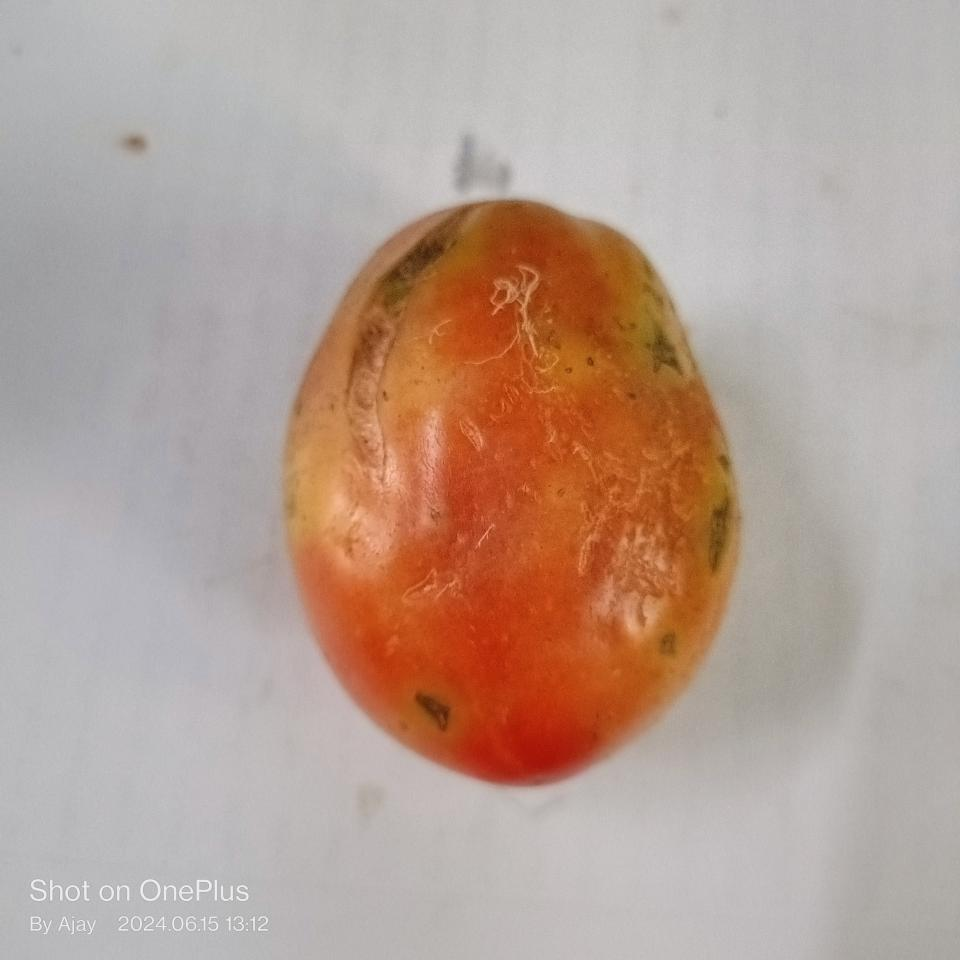Bacterial_Spot: (704, 489, 734, 578), (414, 684, 458, 740), (646, 330, 684, 378)
